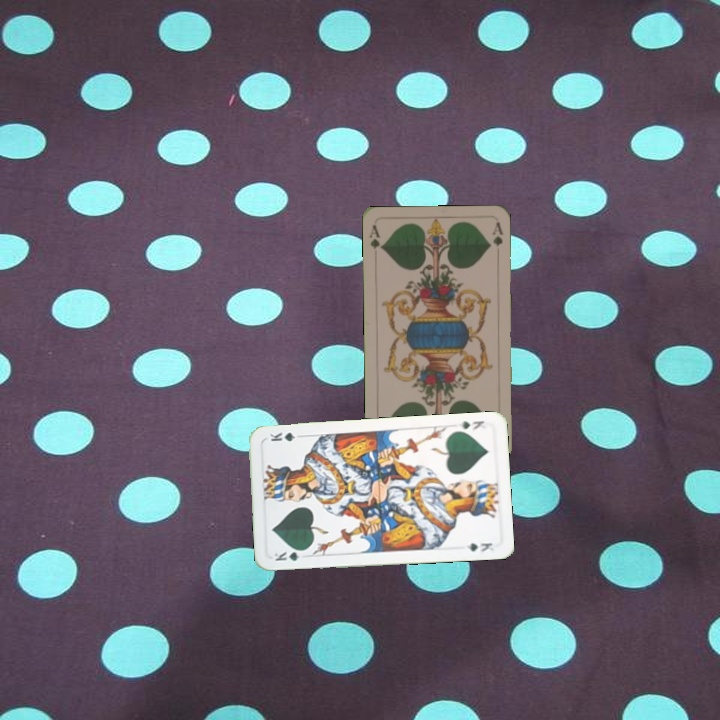GA: (365, 221, 385, 252)
GK: (270, 546, 309, 563), (455, 417, 488, 433)
